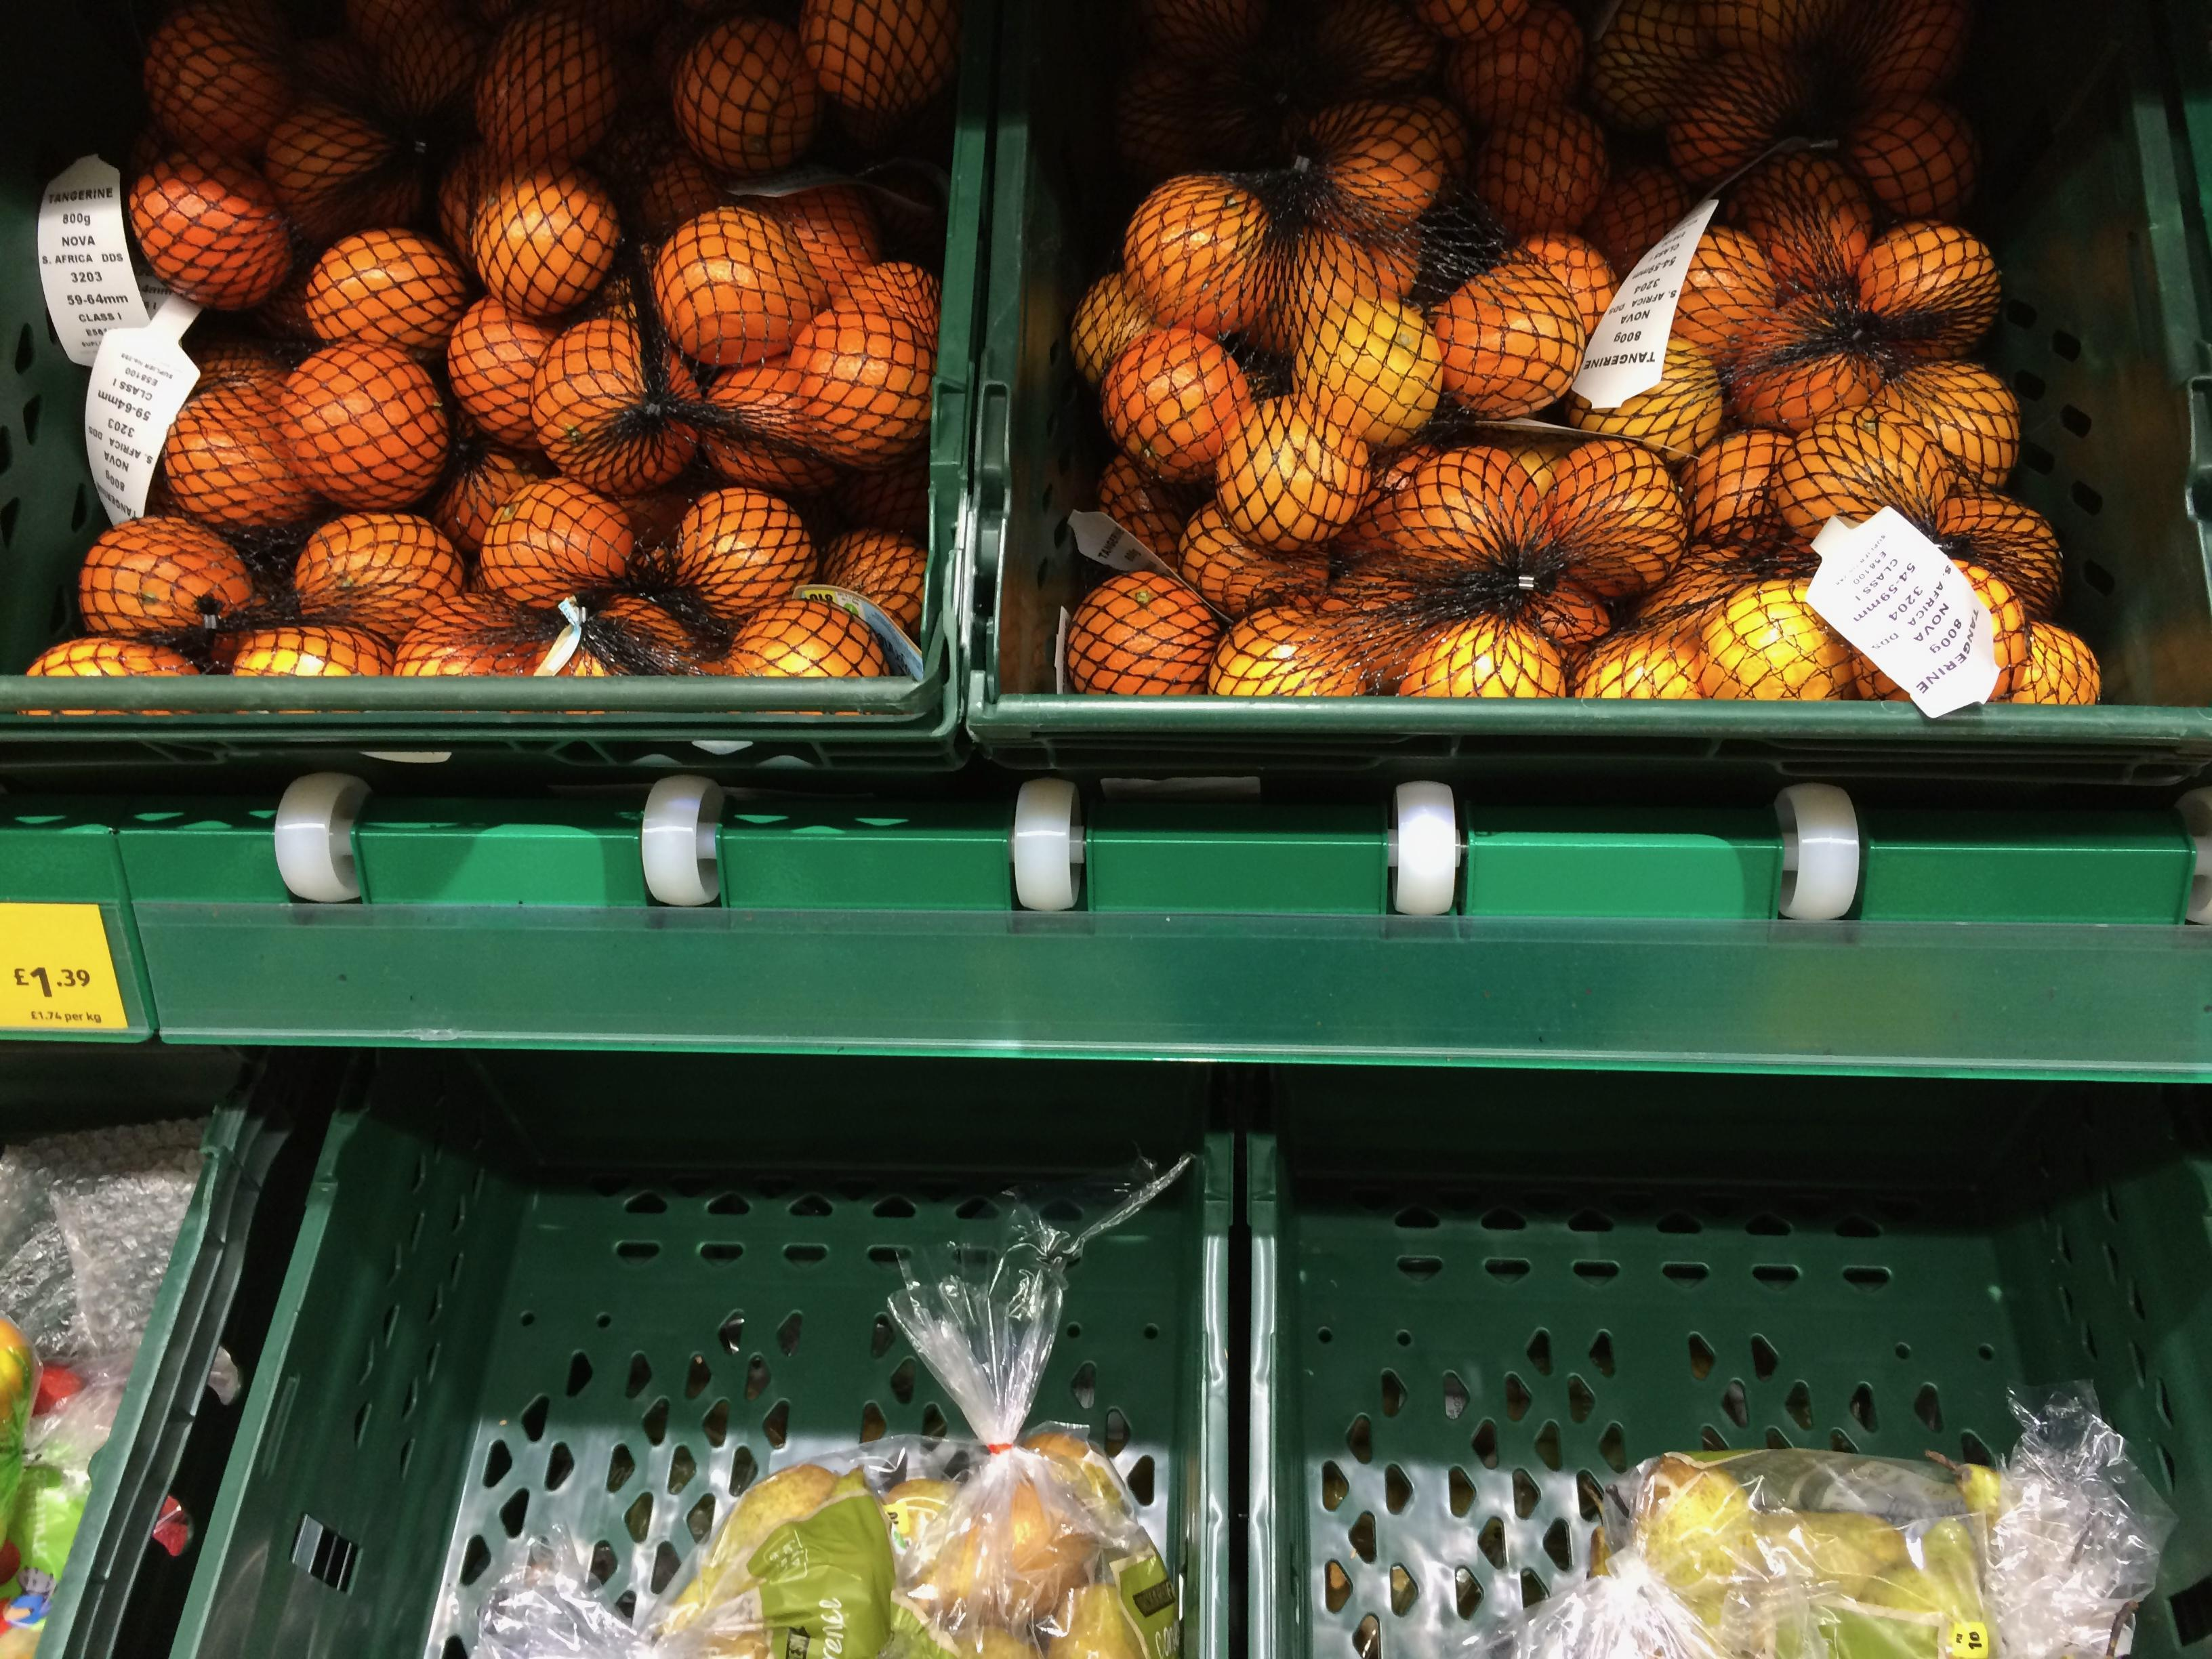orange: (531, 317, 697, 495), (280, 342, 449, 509), (653, 207, 829, 366), (784, 296, 937, 465), (131, 153, 291, 308), (1433, 256, 1585, 418), (672, 16, 822, 178), (1770, 408, 1952, 538), (164, 373, 317, 528), (1214, 397, 1367, 552), (1122, 174, 1270, 335), (143, 3, 293, 160), (1101, 328, 1252, 479), (477, 7, 620, 167), (470, 167, 620, 319), (263, 101, 423, 242), (1543, 443, 1688, 598), (1292, 298, 1442, 446), (293, 512, 463, 641), (1726, 293, 1881, 430), (1247, 227, 1418, 350), (1726, 152, 1874, 293), (77, 518, 253, 634), (667, 488, 817, 622), (1669, 52, 1815, 188), (477, 479, 632, 605), (1372, 446, 1541, 561), (1858, 221, 2000, 357), (305, 232, 469, 349), (1068, 572, 1221, 694), (1306, 99, 1447, 230), (1566, 340, 1724, 455), (700, 359, 838, 491), (1872, 362, 2019, 486), (1700, 582, 1855, 699), (1470, 105, 1608, 235), (1932, 486, 2062, 620), (594, 106, 725, 240), (1176, 504, 1327, 619), (1839, 98, 1979, 218), (448, 296, 559, 446), (1111, 58, 1244, 181), (1205, 605, 1371, 695), (1635, 544, 1771, 653), (423, 441, 549, 552), (1674, 225, 1777, 361), (1399, 617, 1568, 697), (392, 593, 547, 676), (725, 598, 888, 676), (1681, 427, 1792, 540), (766, 183, 881, 293), (1583, 162, 1693, 275), (374, 16, 489, 124), (571, 594, 712, 676), (822, 528, 927, 638), (1954, 559, 2029, 701), (1069, 272, 1155, 387), (1521, 232, 1616, 333), (1097, 455, 1190, 559), (434, 143, 509, 268), (1571, 629, 1703, 699), (228, 626, 394, 676), (827, 464, 930, 542), (843, 260, 941, 340), (2010, 620, 2101, 704), (1515, 580, 1613, 655), (24, 636, 199, 676), (186, 331, 291, 396), (1402, 92, 1475, 183), (289, 35, 381, 106), (254, 270, 317, 350)
